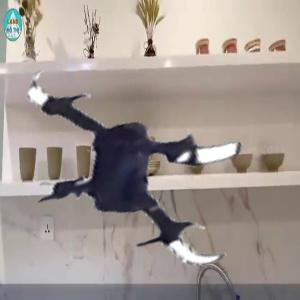drone: (11, 26, 278, 293)
